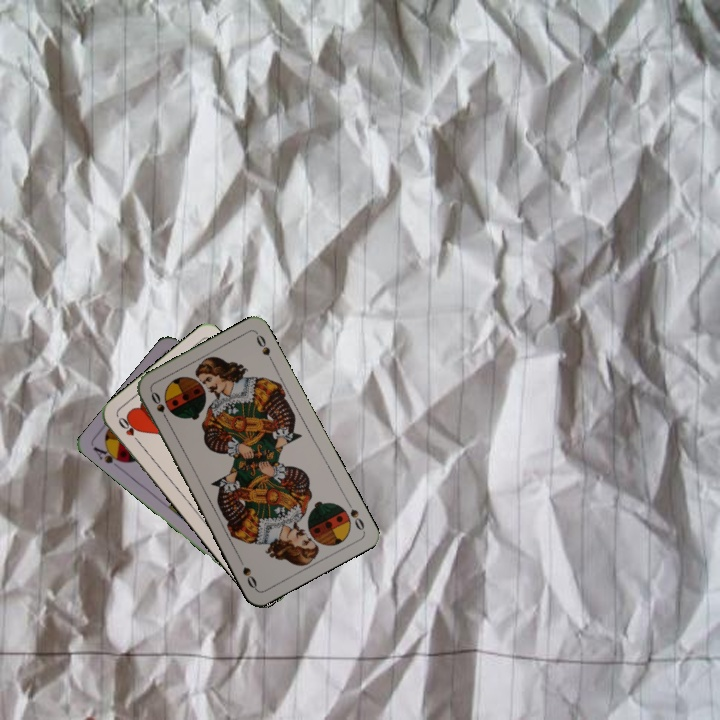HO: (114, 413, 144, 447)
SA: (89, 442, 128, 466)
SO: (342, 496, 367, 533), (147, 387, 171, 424)
